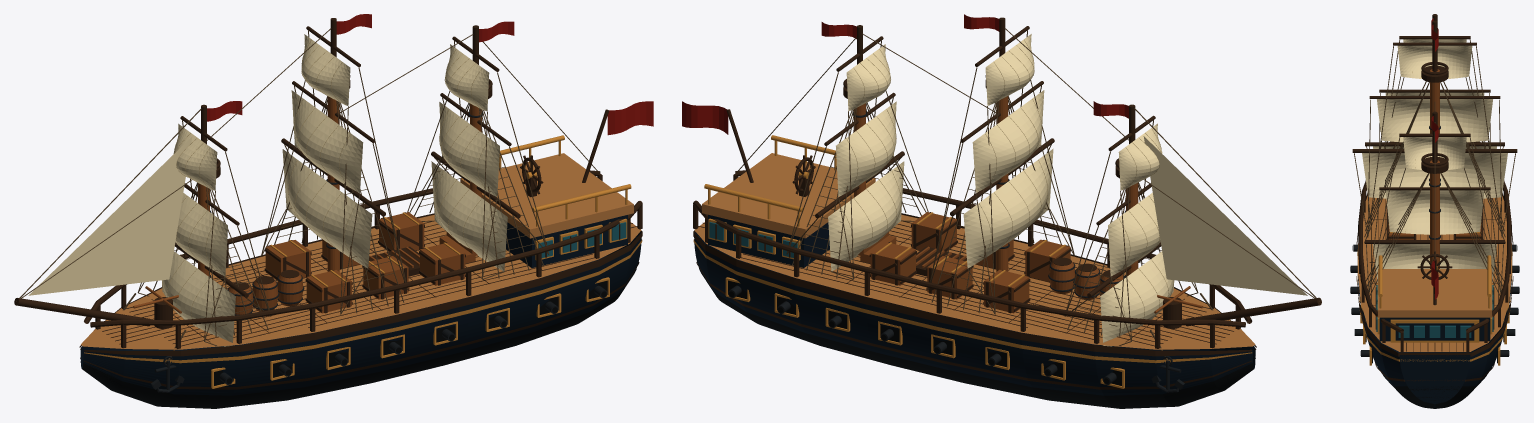
File: ThreeMastShip.obj
3 views of the same model, side by side, from view 1: azimuth 30°, elevation 25°; view 2: azimuth 150°, elevation 25°; view 3: azimuth 270°, elevation 25° (orthographic). The views are drawn at different scales.
Visible parts, largest first — view 1: Navy_carvel_hull, Main_deck, Billowed_canvas_3, Billowed_canvas_2, Triangular_jib, Raised_quarterdeck, Planked_wooden_crate, Dark_lower_hull, Billowed_canvas_1, Continuous_gunwale_rail, Deck_edge_timber, Plank_seam (+26 smaller); view 2: Navy_carvel_hull, Main_deck, Billowed_canvas_3, Billowed_canvas_2, Triangular_jib, Raised_quarterdeck, Dark_lower_hull, Planked_wooden_crate, Billowed_canvas_1, Continuous_gunwale_rail, Deck_edge_timber, Plank_seam (+25 smaller); view 3: Billowed_canvas_2, Billowed_canvas_3, Raised_quarterdeck, Navy_carvel_hull, Main_deck, Billowed_canvas_1, Yard_brace, Standing_shroud, Continuous_gunwale_rail, Lower_timber_mast, Yard_3, Yard_2 (+25 smaller).
Boxes of the visible parts, <box> form: Navy_carvel_hull: <box>80,232,641,395</box>; Main_deck: <box>81,215,641,349</box>; Billowed_canvas_3: <box>162,149,507,346</box>; Billowed_canvas_2: <box>175,90,499,276</box>; Triangular_jib: <box>28,136,192,295</box>; Raised_quarterdeck: <box>460,153,633,238</box>; Planked_wooden_crate: <box>265,212,465,313</box>; Dark_lower_hull: <box>80,269,636,408</box>; Billowed_canvas_1: <box>173,34,489,190</box>; Continuous_gunwale_rail: <box>84,170,642,327</box>; Deck_edge_timber: <box>79,213,642,356</box>; Plank_seam: <box>102,221,637,346</box>; Navy_carvel_hull: <box>694,232,1255,395</box>; Main_deck: <box>694,214,1255,349</box>; Billowed_canvas_3: <box>828,148,1174,346</box>; Billowed_canvas_2: <box>836,90,1160,276</box>; Triangular_jib: <box>1143,136,1307,295</box>; Raised_quarterdeck: <box>702,153,875,238</box>; Dark_lower_hull: <box>699,252,1255,408</box>; Planked_wooden_crate: <box>870,212,1070,313</box>; Billowed_canvas_1: <box>846,34,1162,190</box>; Continuous_gunwale_rail: <box>693,170,1252,327</box>; Deck_edge_timber: <box>693,213,1256,356</box>; Plank_seam: <box>698,221,1233,346</box>; Billowed_canvas_2: <box>1377,92,1492,234</box>; Billowed_canvas_3: <box>1362,146,1507,282</box>; Raised_quarterdeck: <box>1378,269,1491,317</box>; Navy_carvel_hull: <box>1358,276,1511,408</box>; Main_deck: <box>1358,196,1511,351</box>; Billowed_canvas_1: <box>1397,39,1472,169</box>; Yard_brace: <box>1354,39,1515,293</box>; Standing_shroud: <box>1364,81,1505,295</box>; Continuous_gunwale_rail: <box>1358,141,1511,332</box>; Lower_timber_mast: <box>1430,69,1439,268</box>; Yard_3: <box>1352,142,1517,243</box>; Yard_2: <box>1369,89,1500,190</box>.
Bounding box in the file's own units: 6.64 × 3.61 × 1.87.
